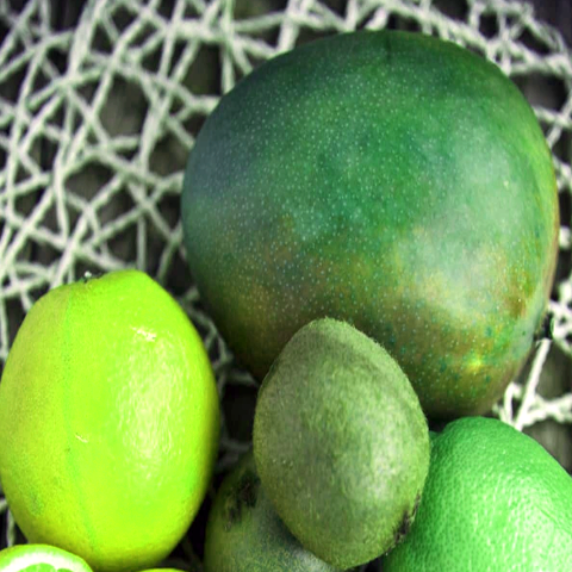kiwi: (140, 22, 572, 417), (254, 307, 427, 572)
orange: (0, 259, 226, 568)
